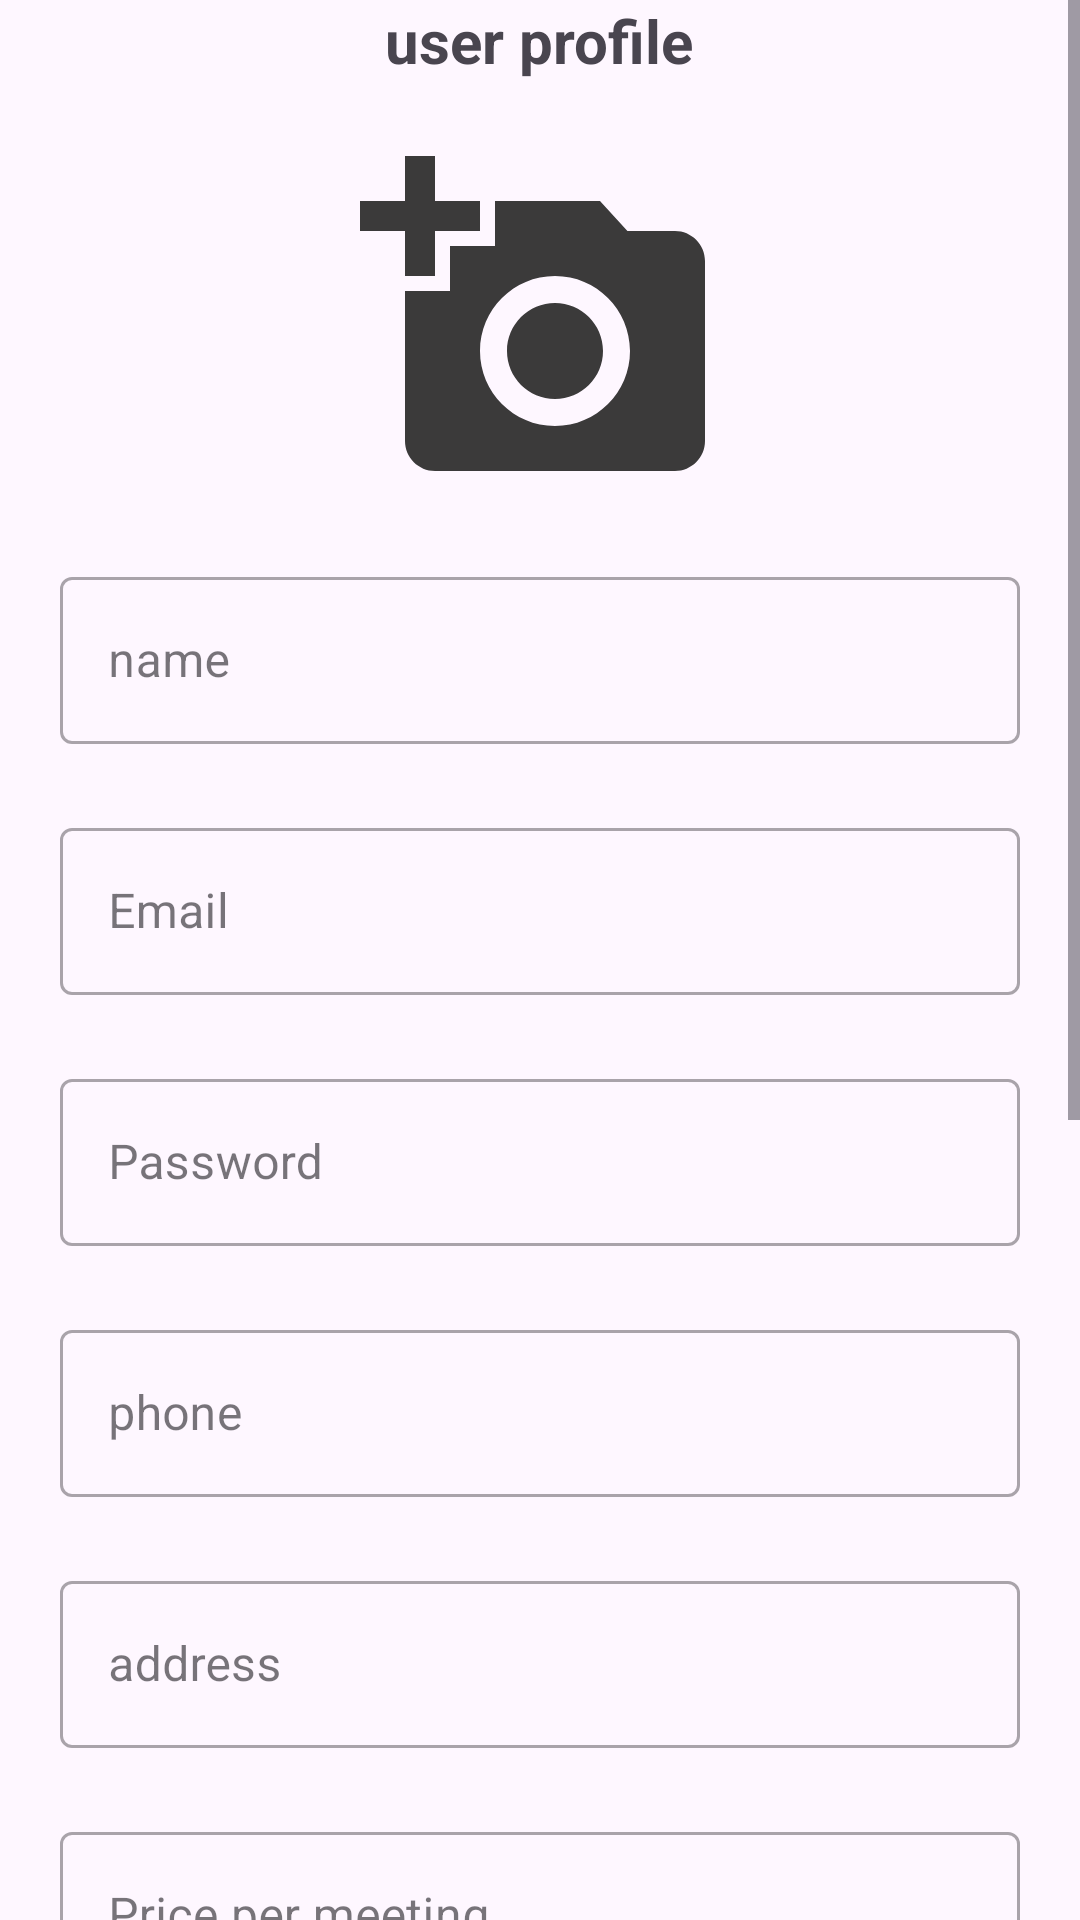

Icons on this 1080 x 1920 Android screen, each with the point to tap as point (x, y):
click to put a profile picture: point (532, 313)
